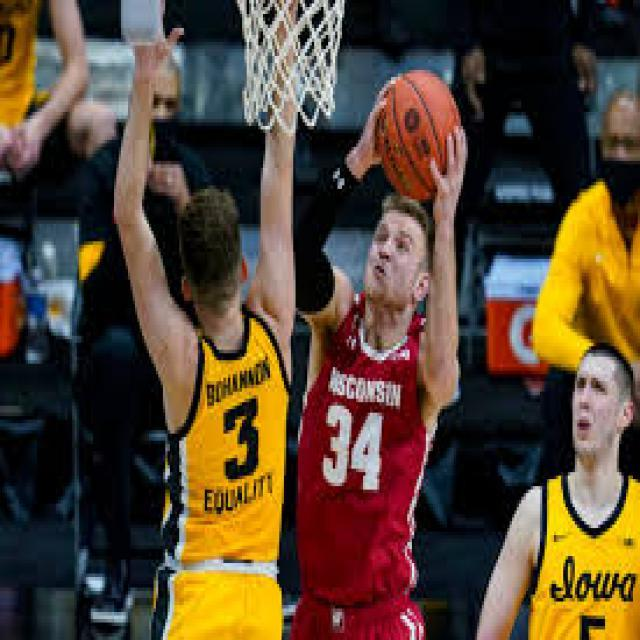basketball: (375, 70, 463, 203)
